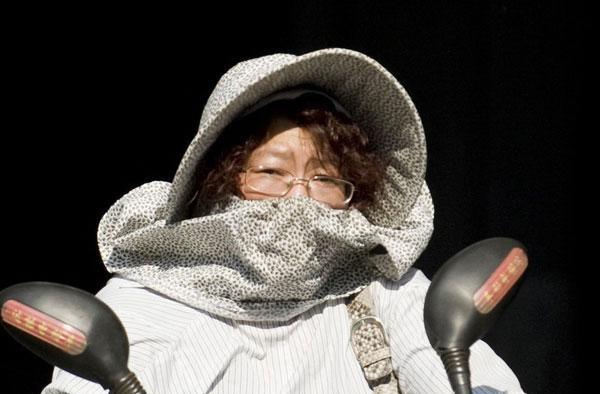face_mask: (236, 129, 349, 263)
